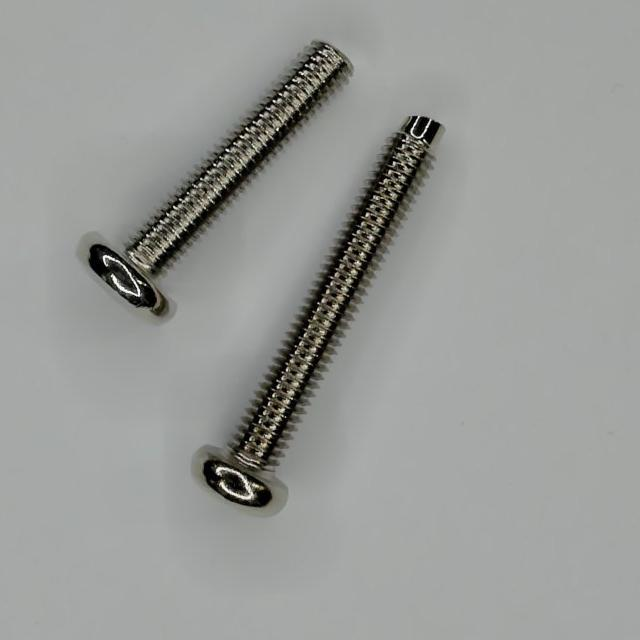Screw: (203, 116, 442, 508), (89, 41, 352, 314)
